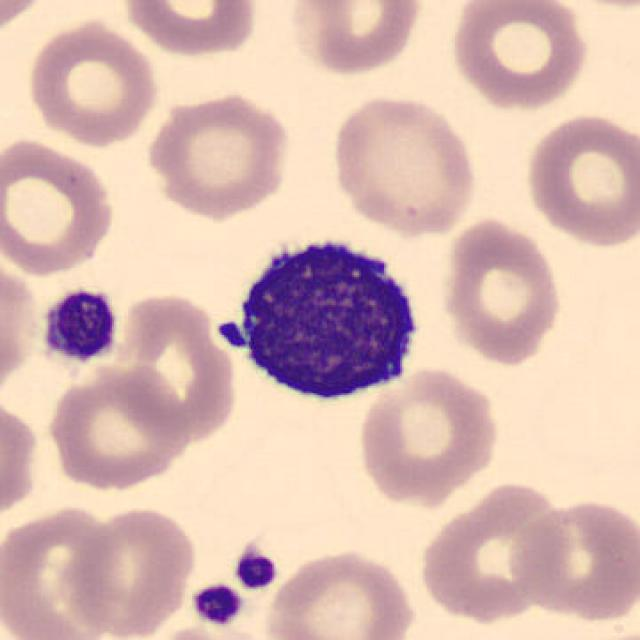Lymphocyte: (208, 222, 432, 411)
Platelets: (36, 284, 122, 367), (190, 580, 246, 628), (231, 543, 281, 592)
RBC: (414, 476, 569, 624), (327, 92, 480, 238), (354, 361, 503, 506), (142, 88, 294, 222), (110, 288, 240, 444), (438, 214, 566, 368), (43, 363, 190, 492), (23, 16, 162, 148), (69, 501, 199, 638), (1, 500, 126, 640), (508, 495, 638, 626), (0, 134, 119, 277), (444, 0, 592, 111), (521, 110, 638, 250), (263, 546, 419, 640), (284, 0, 426, 78), (119, 0, 261, 58), (0, 250, 39, 404), (0, 393, 43, 531), (142, 622, 274, 640), (0, 0, 55, 42), (546, 0, 638, 14)
